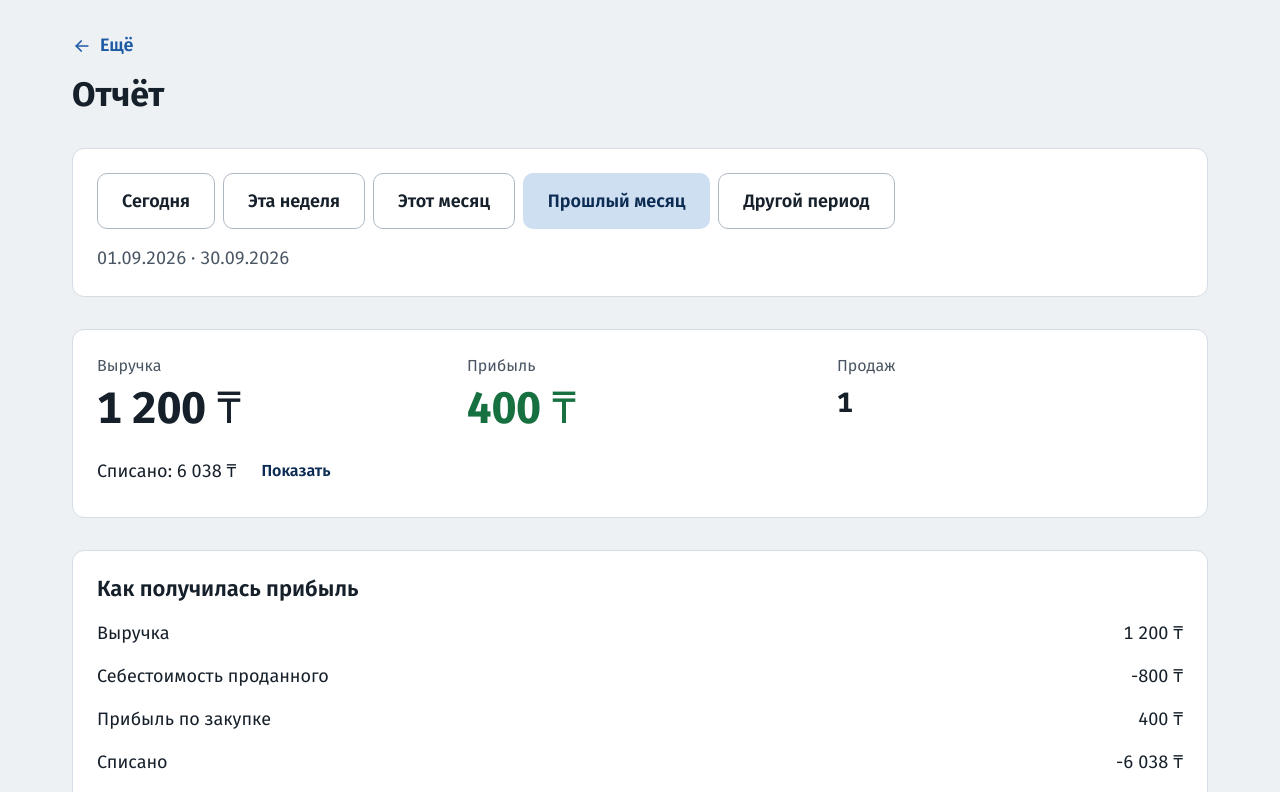
ReportPage › retries a failed details request without hiding the summary
What coordinates should you click on to do the following:
click the button "Показать"
I would click on:
 (296, 471)
Its box is [244,449,348,493].
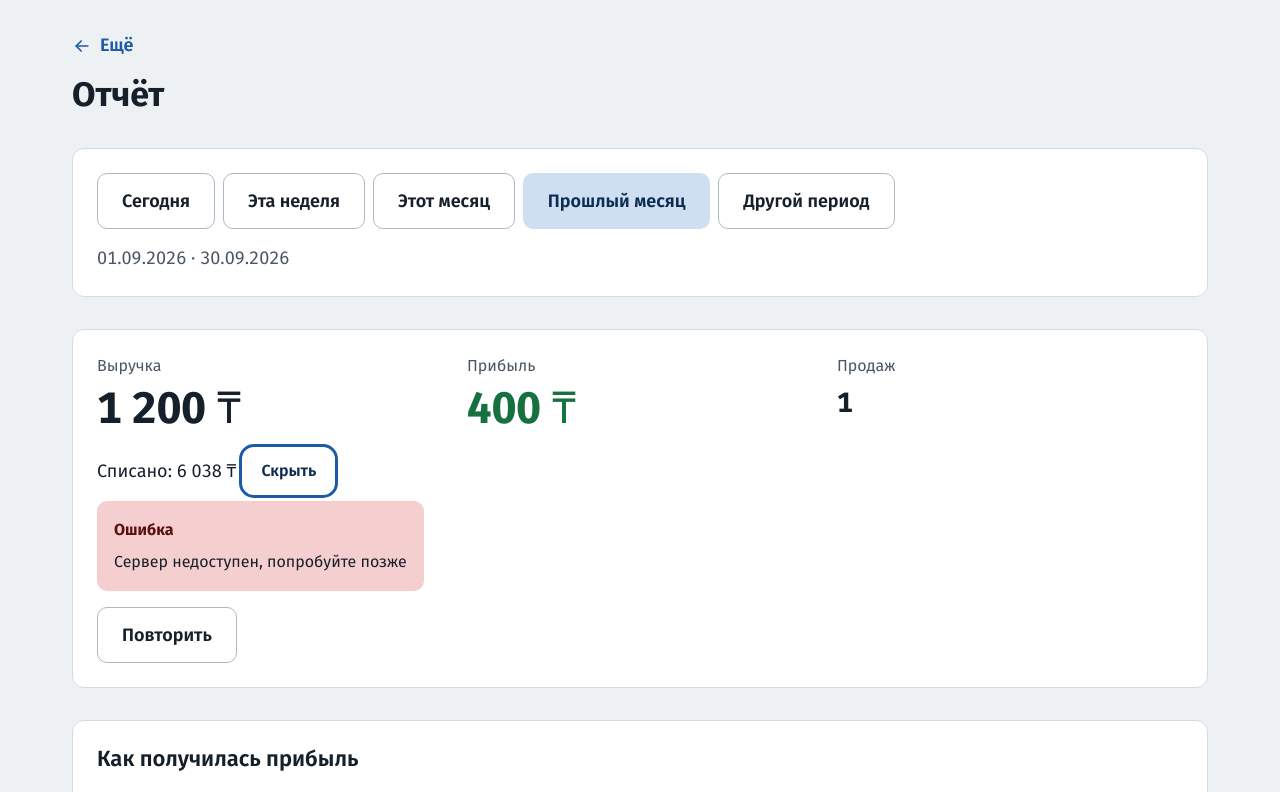
What coordinates should you click on to do the following:
click the button "Повторить"
I would click on:
 (167, 635)
Its box is [97,607,237,663].
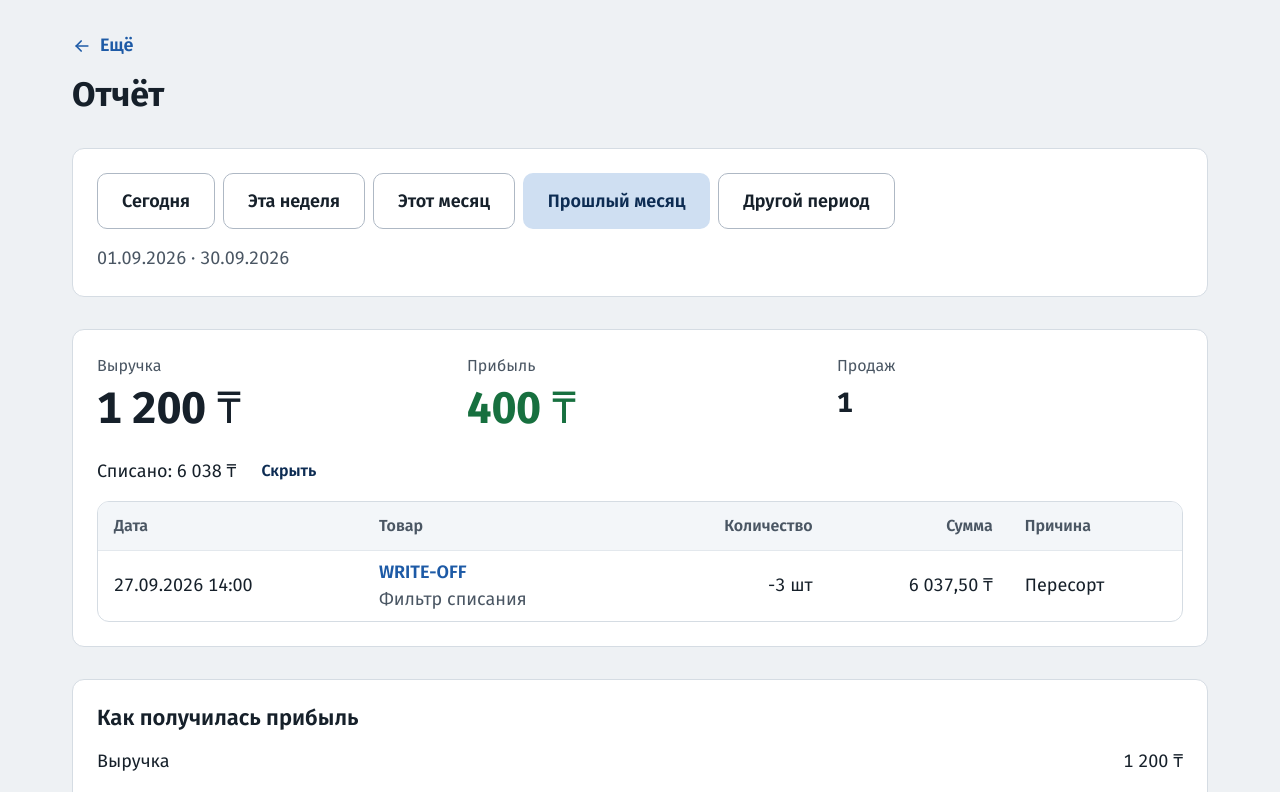
Expected: the text "Списано: 6 038 ₸" is shown, [97,458,236,485]
Now the text "Пересорт" is shown, box [1025,574,1104,596]
